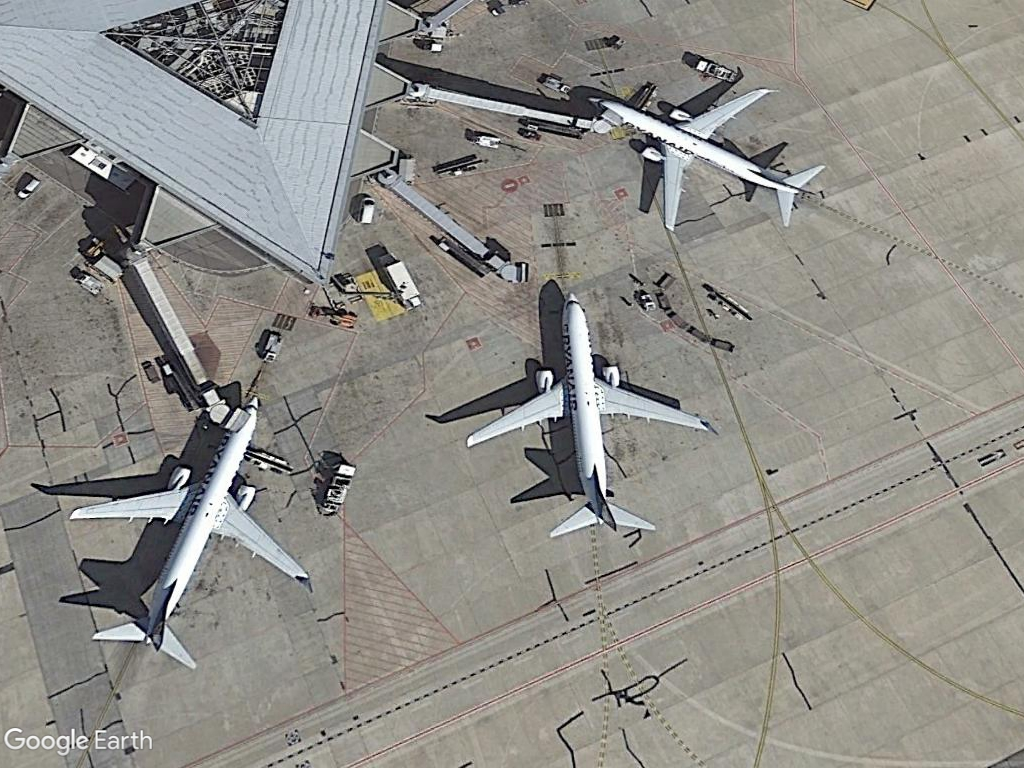airliner: (70, 382, 319, 677), (455, 285, 720, 548), (578, 65, 837, 241)
